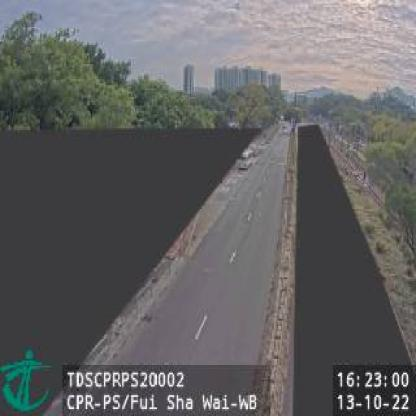Bus: (238, 150, 254, 171)
